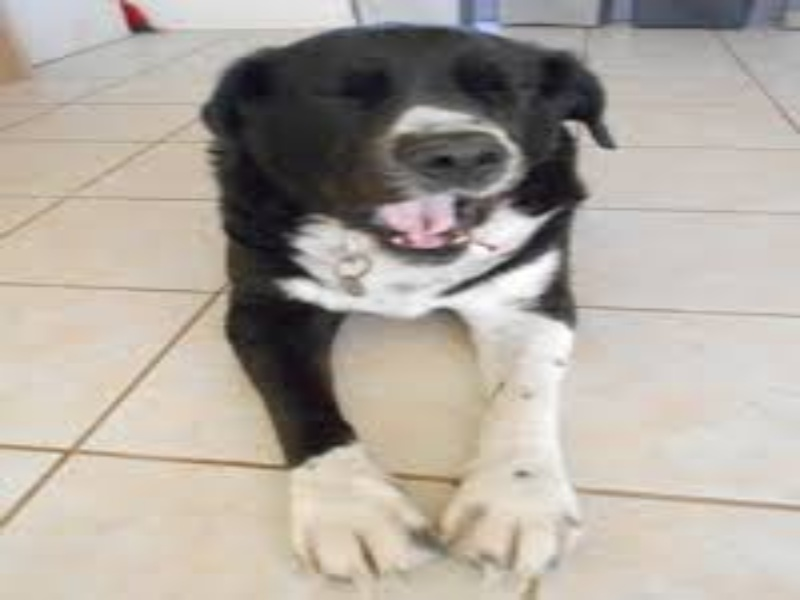dog: (199, 15, 626, 589)
